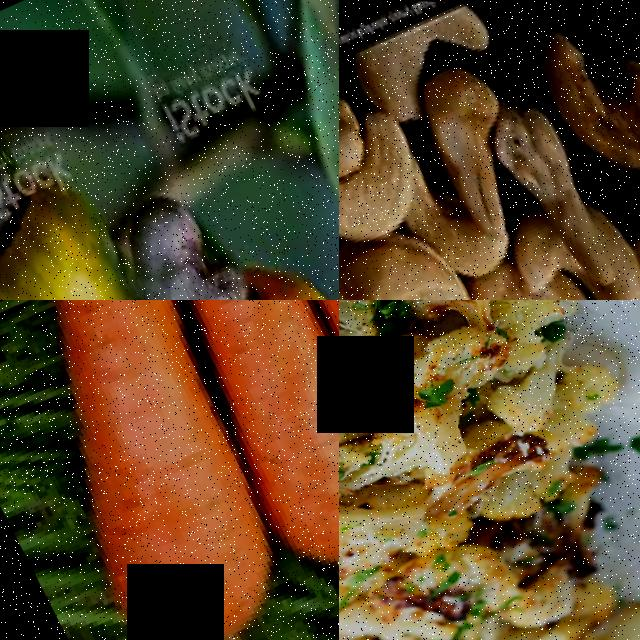carrot: (0, 300, 320, 640), (83, 300, 339, 640), (188, 300, 339, 594)
cashew: (482, 70, 640, 282), (405, 57, 568, 239), (339, 0, 518, 136), (521, 1, 640, 199), (339, 166, 489, 300), (108, 180, 266, 300), (339, 137, 457, 271), (339, 33, 393, 185), (0, 80, 43, 261), (514, 266, 604, 300)
